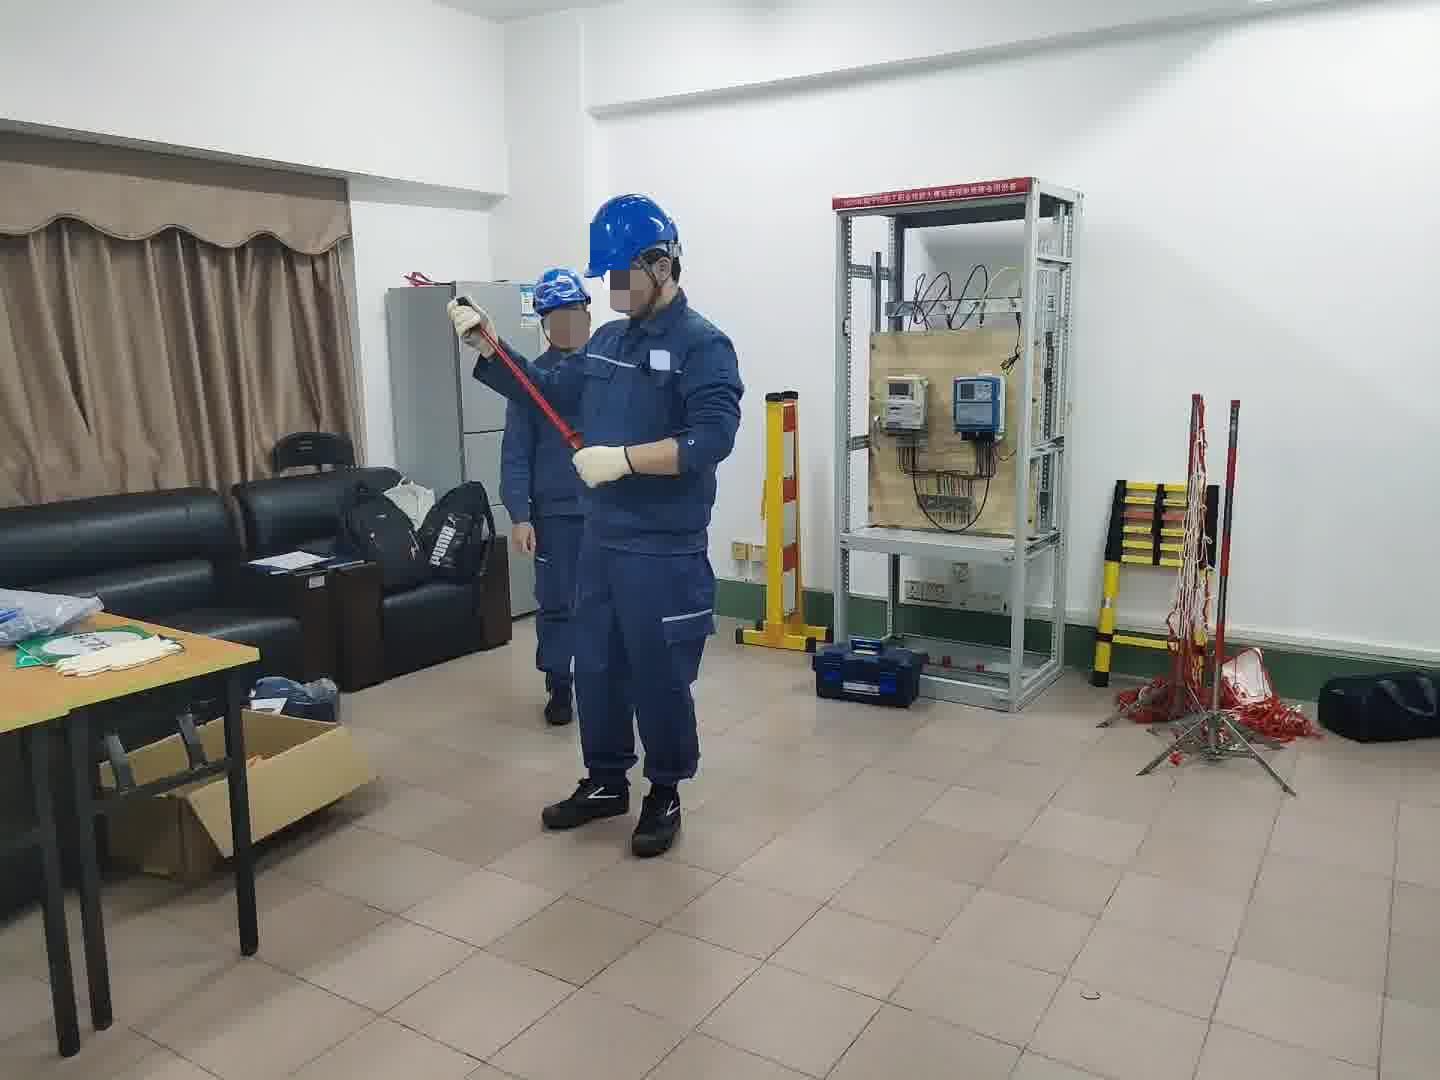halt: (588, 194, 687, 317), (533, 268, 594, 353)
inear: (639, 253, 680, 301)
